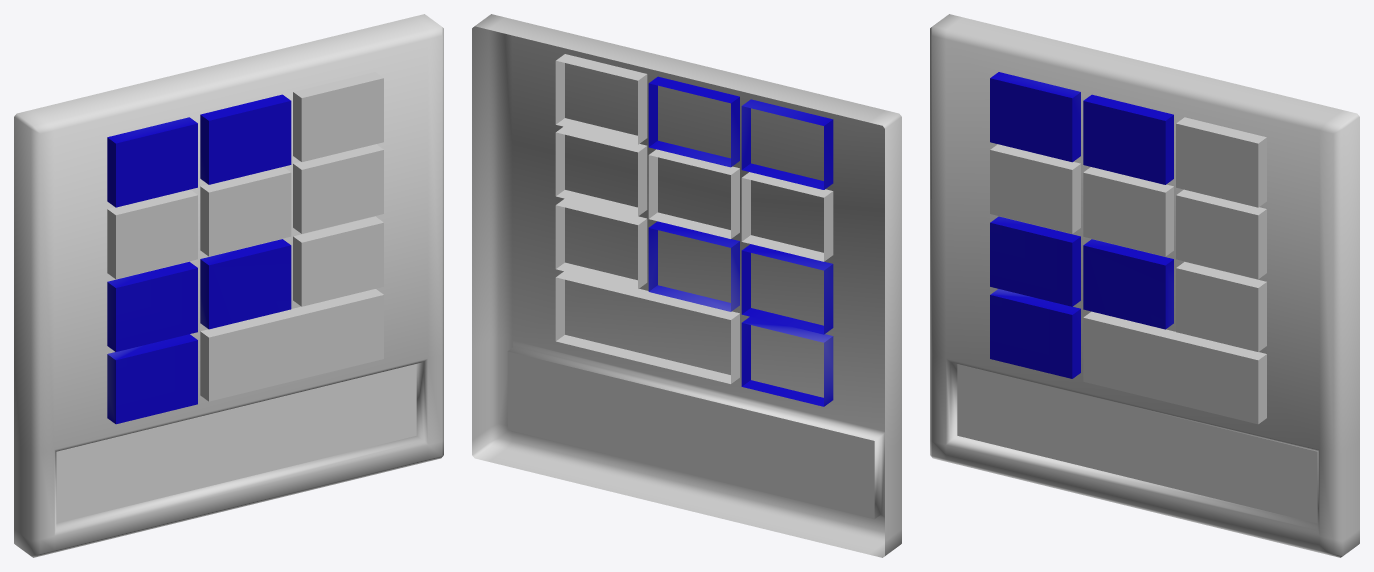
The model's file is mod_numbers_1.fbx.
3 renders of one model, left to right at view 1: azimuth 30°, elevation 25°; view 2: azimuth 150°, elevation 25°; view 3: azimuth 330°, elevation 25°, orthographic.
Visible parts, largest first — view 1: module_base4, interface.001, button_reset, button_2, button_8, button_5, button_9, button_1, button_3, button_7, button_0, button_4 (+1 smaller); view 2: module_base4, interface.001, button_reset, button_3, button_1, button_7, button_9, button_2, button_0, button_8, button_6, button_4 (+1 smaller); view 3: module_base4, interface.001, button_reset, button_7, button_2, button_3, button_8, button_1, button_9, button_0, button_4, button_5 (+1 smaller).
Boxes of the visible parts, bbox=[...] form: module_base4: bbox=[14, 14, 443, 557]; interface.001: bbox=[56, 364, 416, 523]; button_reset: bbox=[200, 289, 383, 401]; button_2: bbox=[200, 94, 291, 184]; button_8: bbox=[200, 239, 291, 329]; button_5: bbox=[200, 167, 291, 256]; button_9: bbox=[293, 216, 383, 306]; button_1: bbox=[107, 117, 197, 207]; button_3: bbox=[293, 72, 383, 161]; button_7: bbox=[107, 261, 197, 351]; button_0: bbox=[107, 334, 197, 424]; button_4: bbox=[107, 189, 197, 279]; module_base4: bbox=[472, 14, 901, 557]; interface.001: bbox=[507, 351, 874, 519]; button_reset: bbox=[555, 271, 739, 383]; button_3: bbox=[555, 54, 647, 144]; button_1: bbox=[741, 99, 833, 189]; button_7: bbox=[741, 244, 833, 334]; button_9: bbox=[555, 199, 647, 289]; button_2: bbox=[648, 76, 739, 167]; button_0: bbox=[741, 316, 833, 406]; button_8: bbox=[648, 221, 739, 311]; button_6: bbox=[555, 126, 647, 216]; button_4: bbox=[741, 172, 833, 261]; module_base4: bbox=[930, 14, 1359, 557]; interface.001: bbox=[957, 364, 1317, 523]; button_reset: bbox=[1083, 311, 1266, 424]; button_7: bbox=[990, 216, 1080, 306]; button_2: bbox=[1083, 94, 1173, 184]; button_3: bbox=[1176, 117, 1266, 207]; button_8: bbox=[1083, 239, 1173, 329]; button_1: bbox=[990, 72, 1080, 162]; button_9: bbox=[1176, 262, 1266, 351]; button_0: bbox=[990, 289, 1080, 378]; button_4: bbox=[990, 144, 1080, 233]; button_5: bbox=[1083, 167, 1173, 256].
Size of the model in its own units: 6 by 6 by 0.7357.
